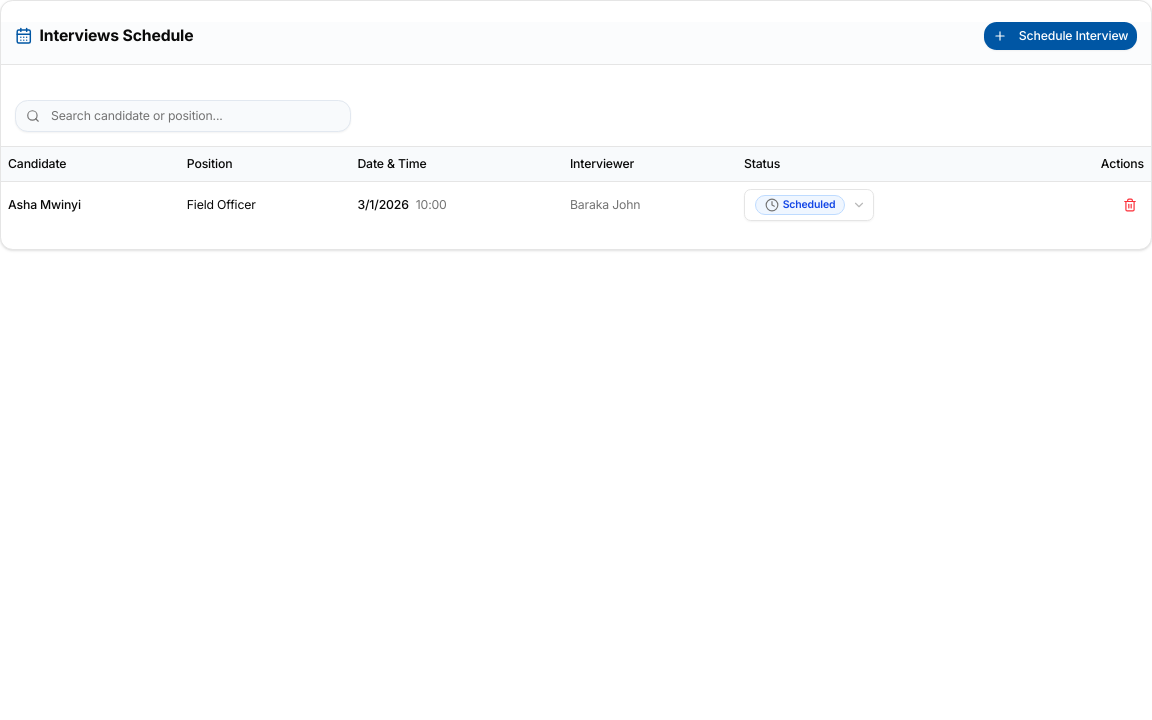
HRInterviewsSubtab › submits a new interview and prepends it to the list
Click the button "Schedule Interview" at x=1060, y=36, box [984,22,1137,50]
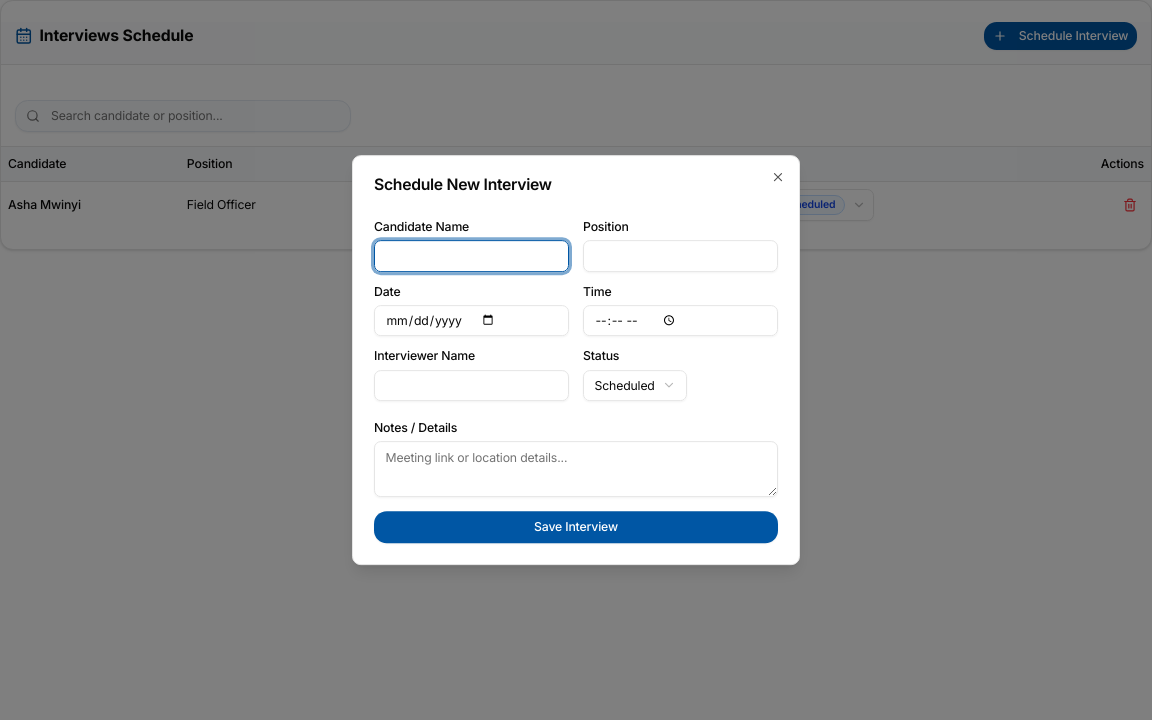
Type "Chiku Ali" into the field below "Candidate Name" at x=472, y=256, box [374,240,569,272]
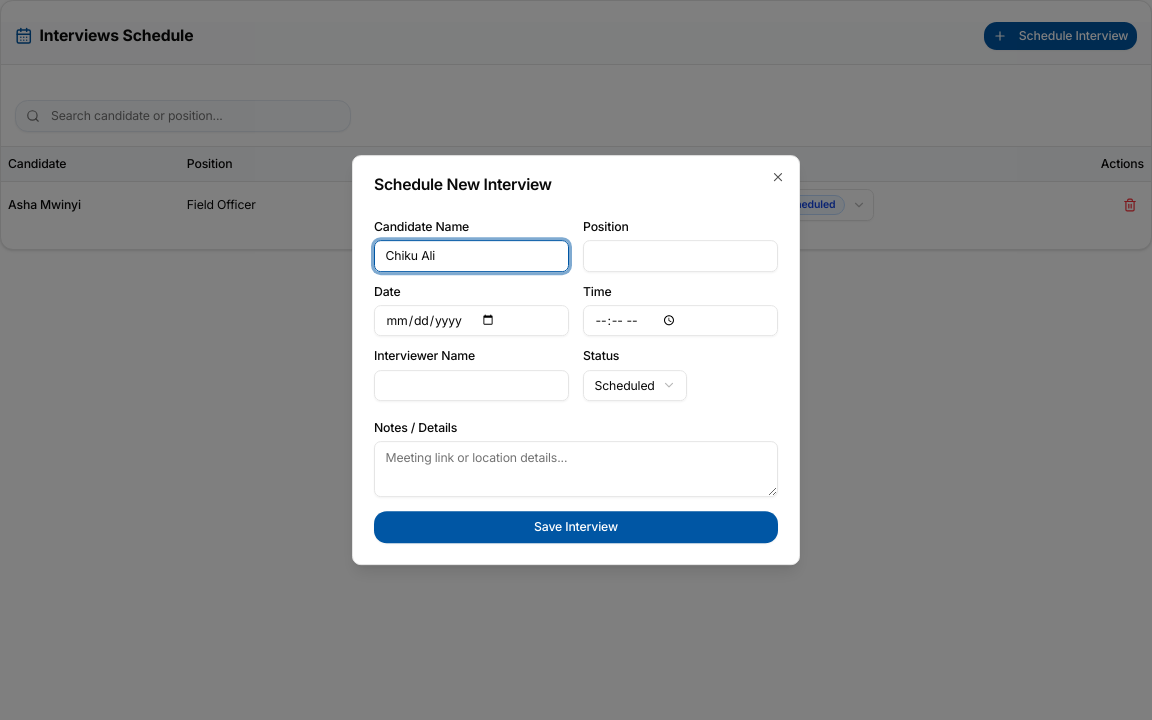
Type "Driver" into the 2nd field at x=680, y=256, box [583,240,778,272]
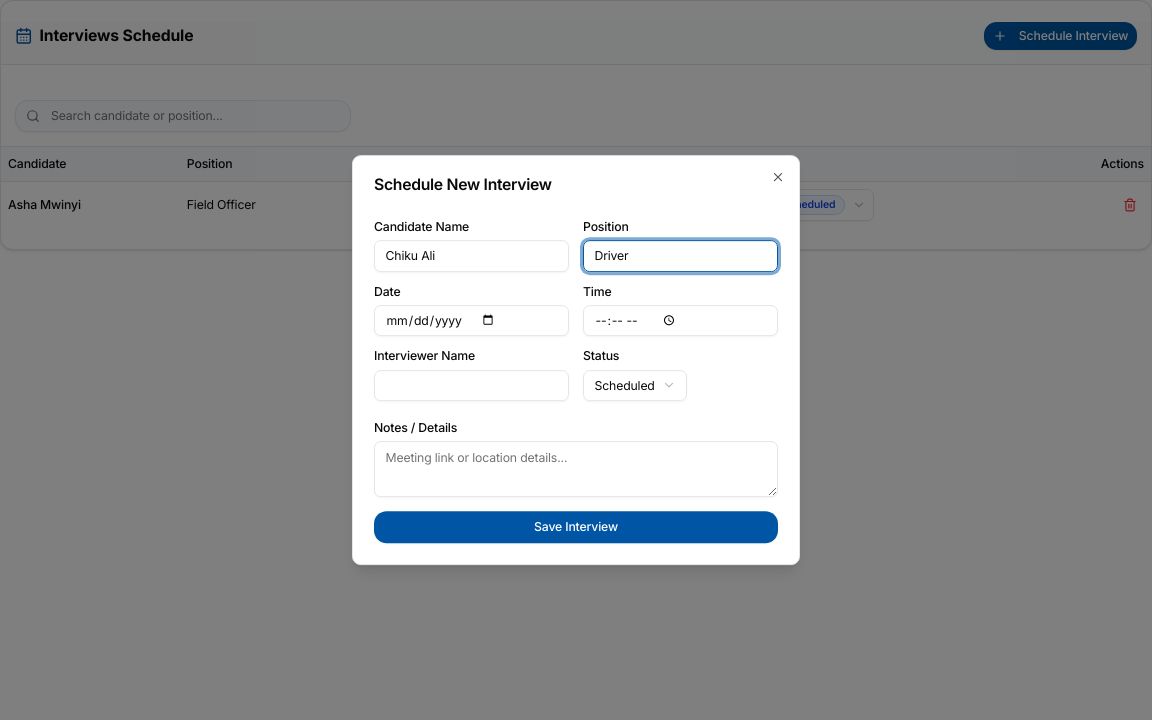
Type "2026-04-01" into the date field at x=472, y=321, box [374,305,569,336]
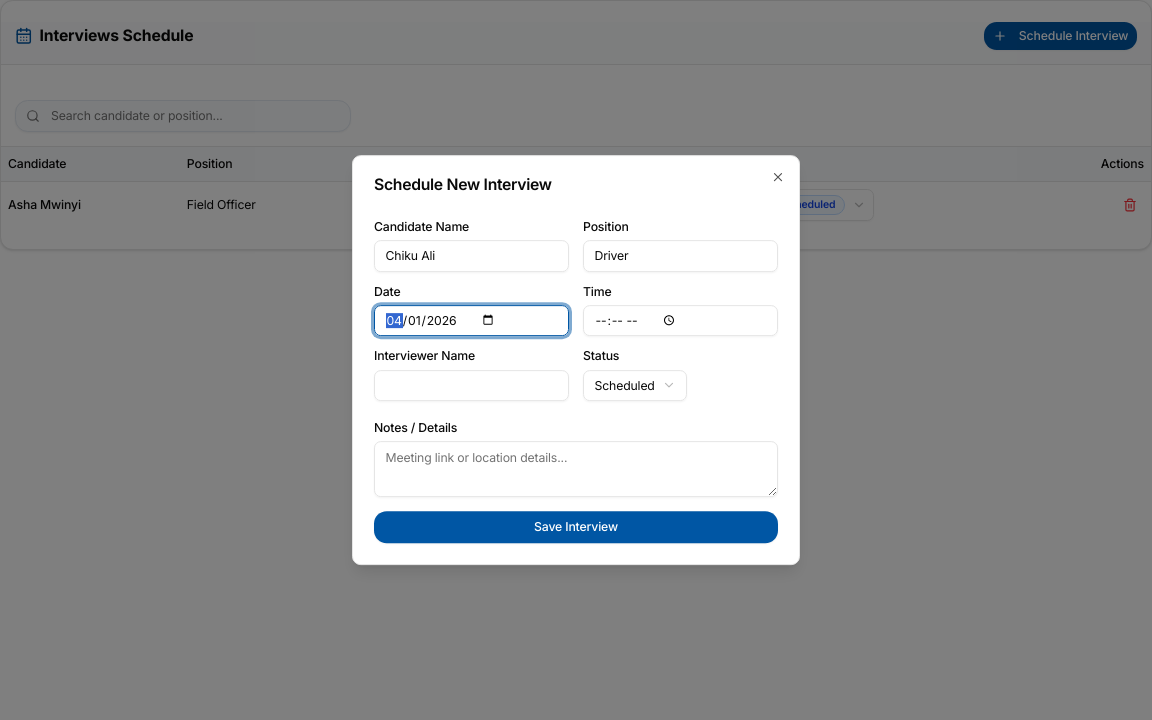
Type "09:00" into the time field at x=680, y=321, box [583,305,778,336]
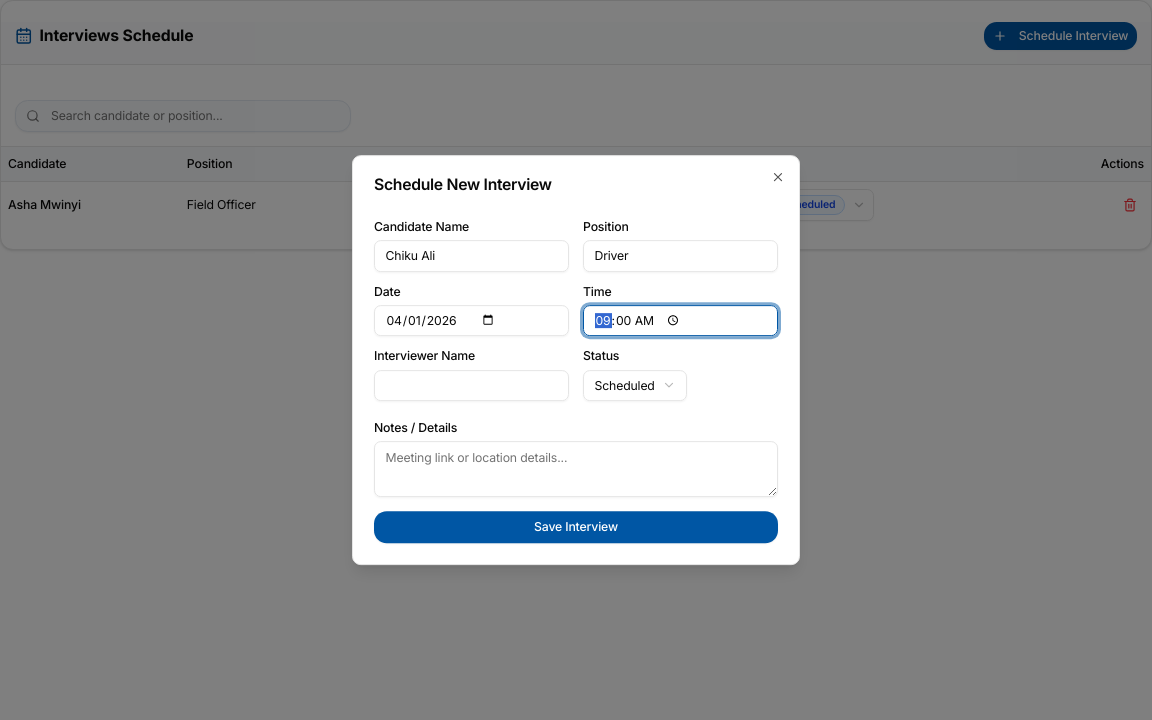
Click the button "Save Interview" at x=576, y=527, box [374,511,778,543]
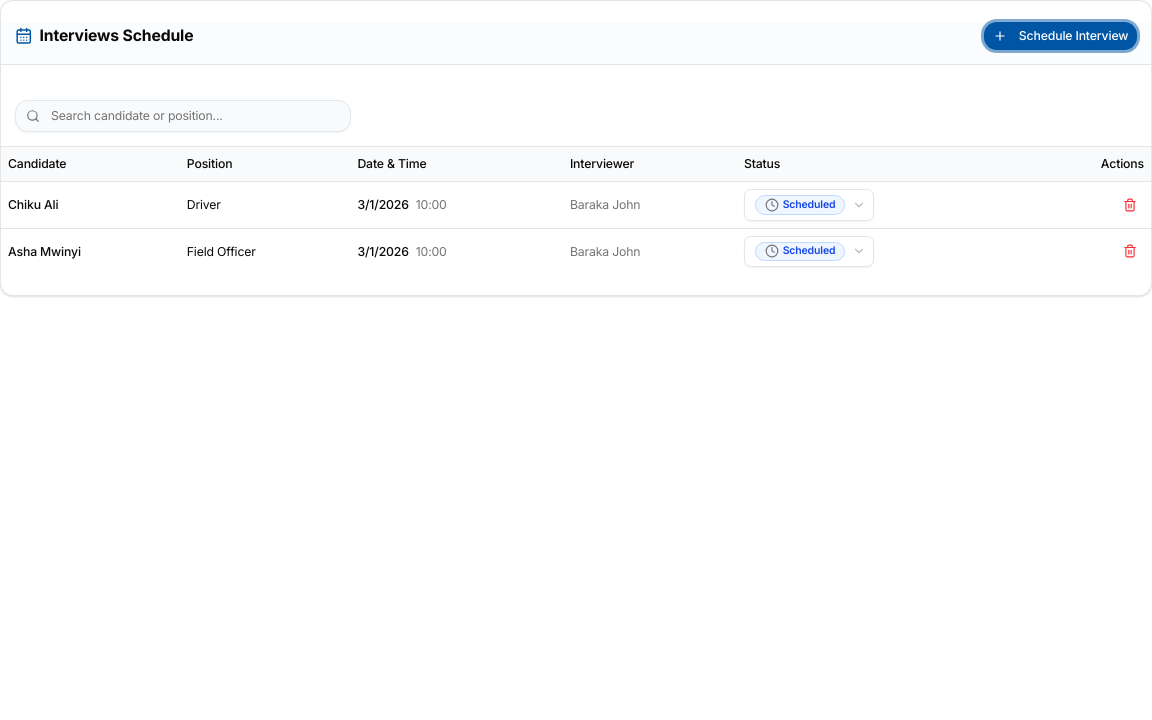
Now the dialog is gone
Now the text "Chiku Ali" is shown, box [1,182,180,228]
